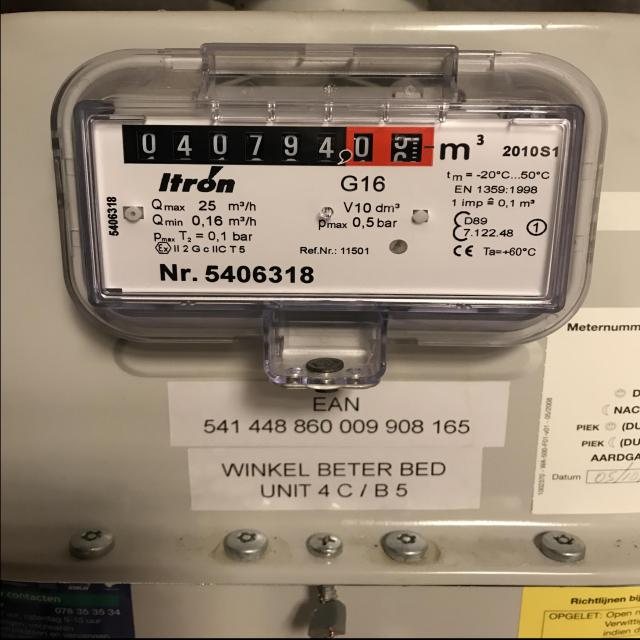gaz_meter: (86, 116, 564, 304)
indication: (118, 124, 437, 166)
